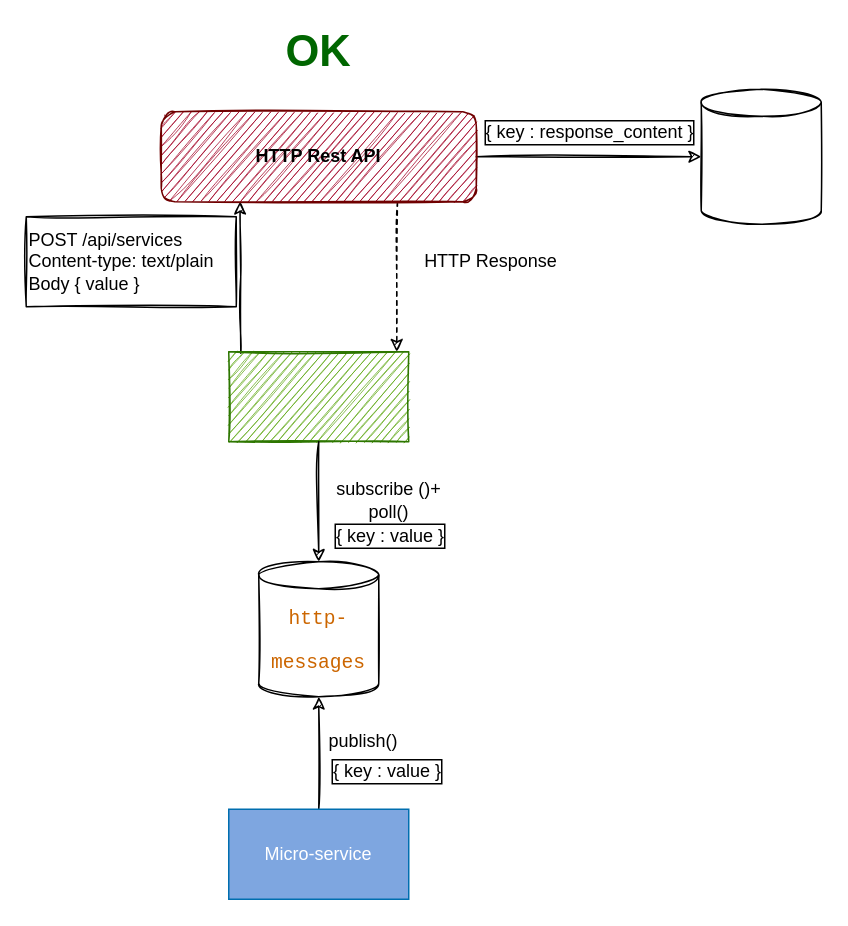
Some shapes in this 848 by 926 pixel diagram are drawn without their labels. The centre of each missing label's shape, as x and y in pixels:
"HttpSinkConnector" goes at (x=318, y=396).
"success- responses" goes at (x=760, y=156).
